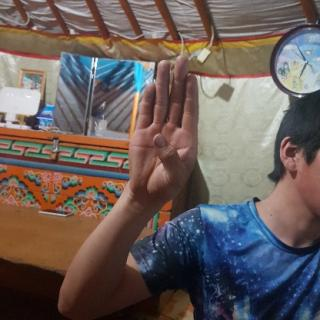KAAF: (127, 50, 204, 205)
